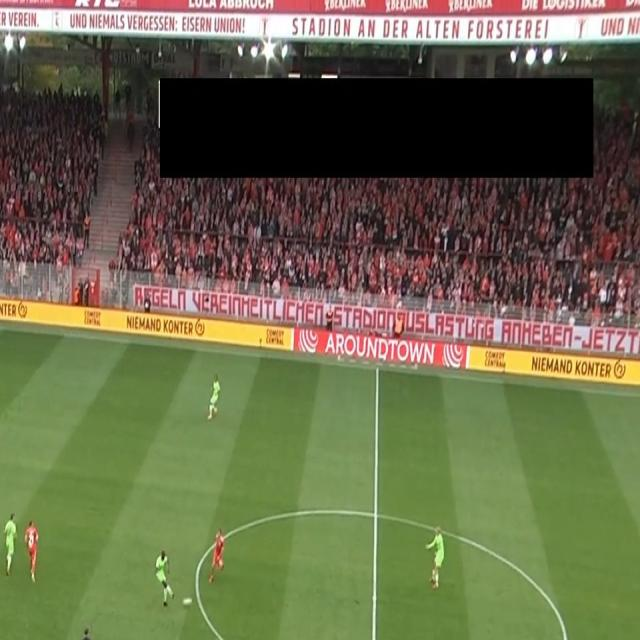ball: (182, 595, 192, 609)
